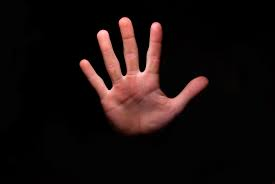palm: (76, 12, 211, 141)
